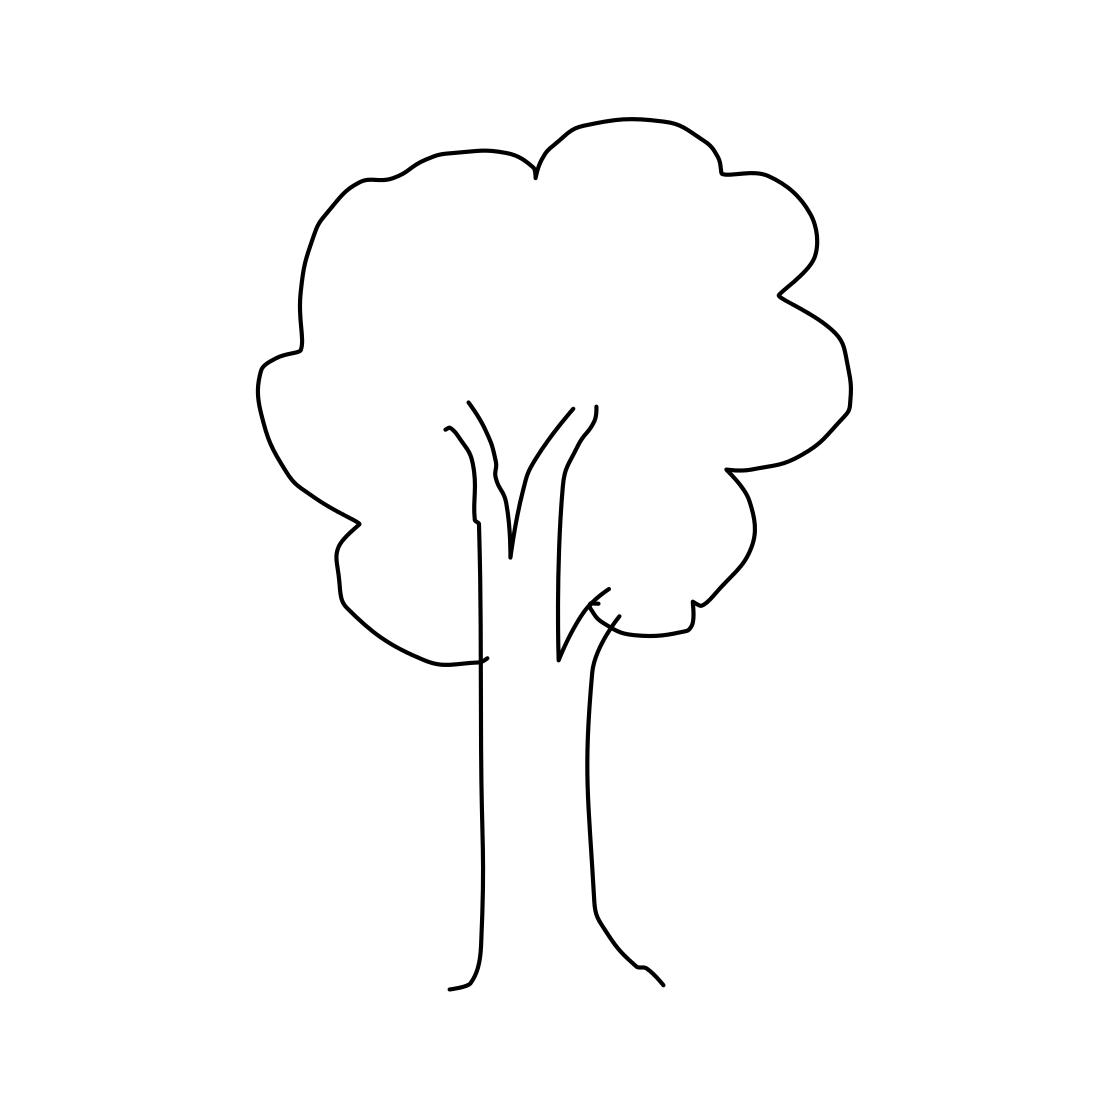Tree: (229, 74, 873, 1013)
